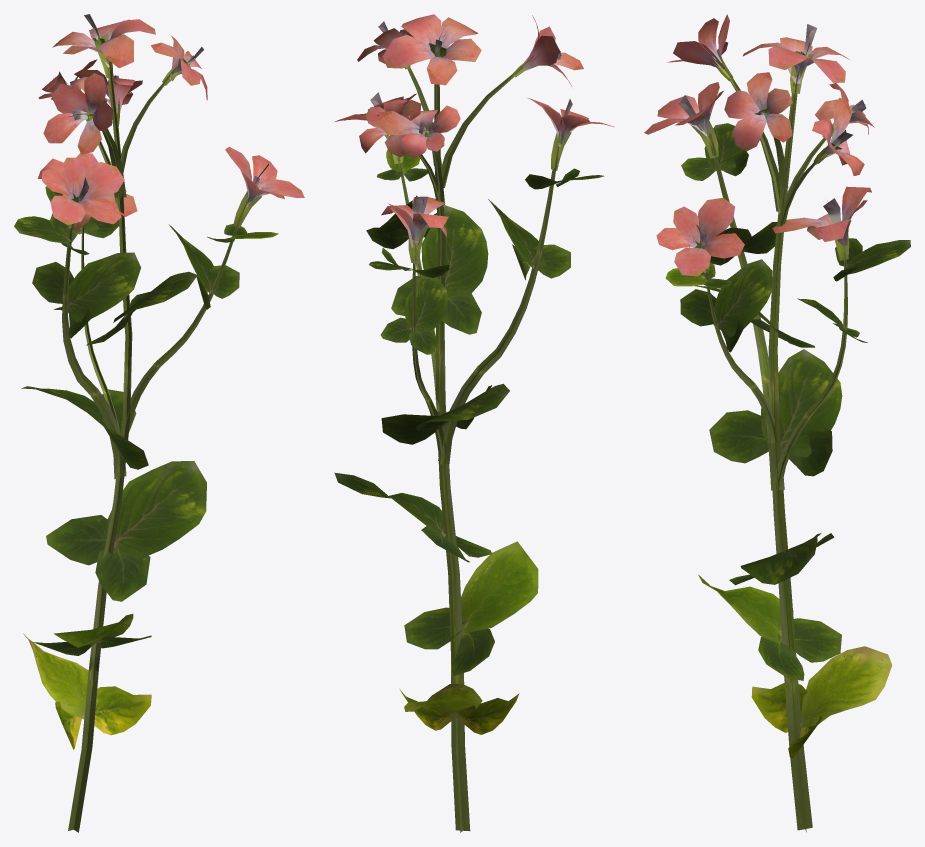
File: Periwinkle_baby_short_peach.glb
3 views of the same model, side by side, from view 1: azimuth 30°, elevation 25°; view 2: azimuth 150°, elevation 25°; view 3: azimuth 270°, elevation 25° (orthographic).
Parts seen in each view (by area): view 1: _b868_Var1_LOD1; view 2: _b868_Var1_LOD1; view 3: _b868_Var1_LOD1.
Part boxes in pixels (<box>): _b868_Var1_LOD1: <box>14,14,304,832</box>; _b868_Var1_LOD1: <box>334,14,614,832</box>; _b868_Var1_LOD1: <box>644,14,910,832</box>.
Size of the model in its own units: 0.5832 by 1.66 by 0.4917.
1 material, 1 textured.
